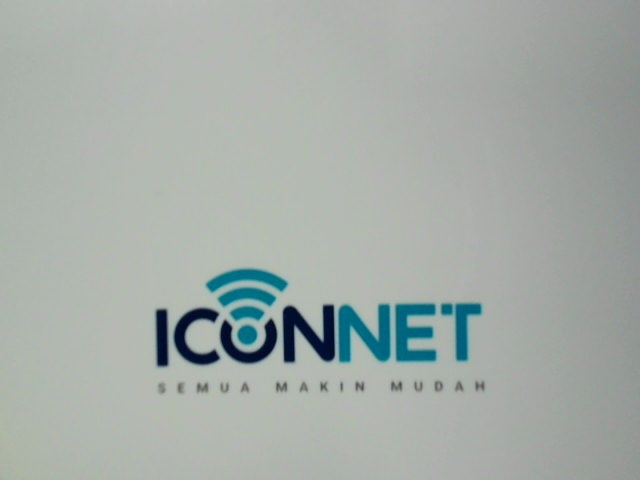BM_ICONNET: (136, 258, 501, 412)
